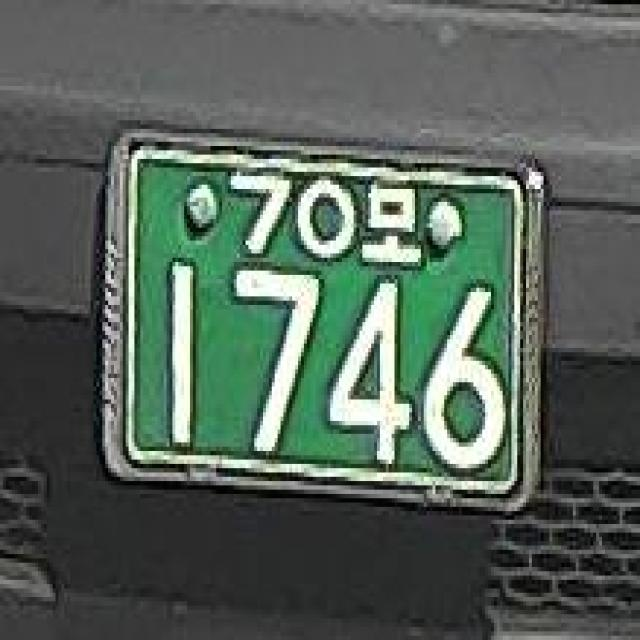illegal_plate: (91, 108, 556, 546)
